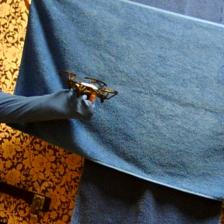drone: (62, 66, 120, 108)
